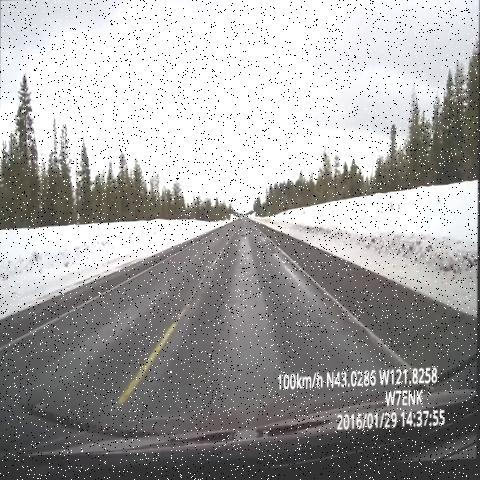pothole: (260, 236, 277, 261), (249, 218, 263, 244), (238, 230, 254, 244)
